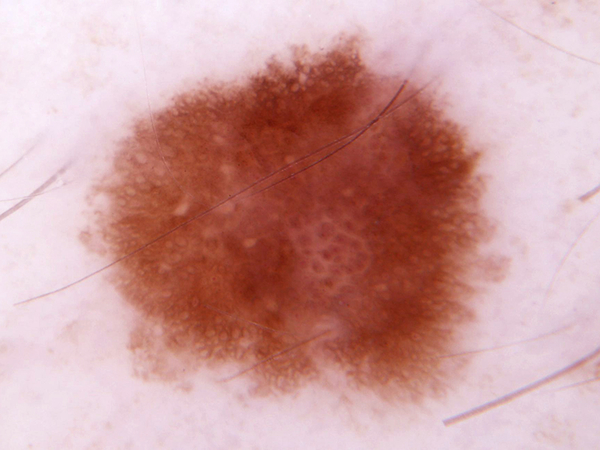Detected Lesion: (82, 30, 491, 407)
